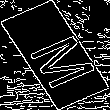M_NE: (14, 23, 96, 87)
